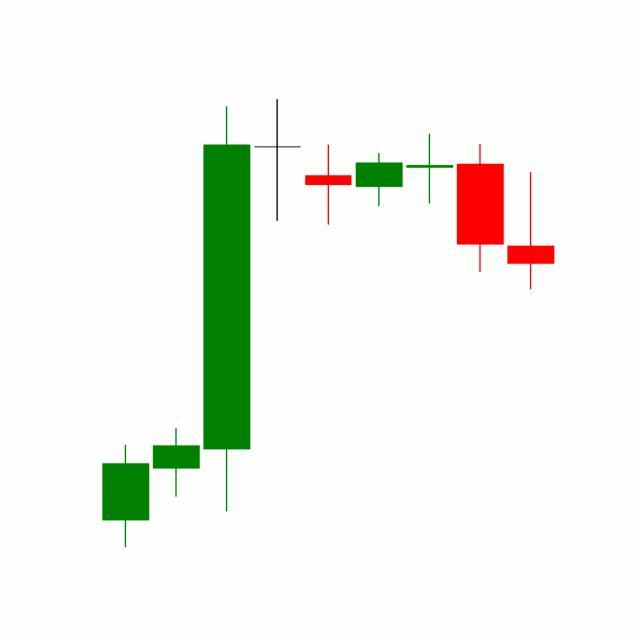Hikkake Pattern: (252, 100, 506, 276)
